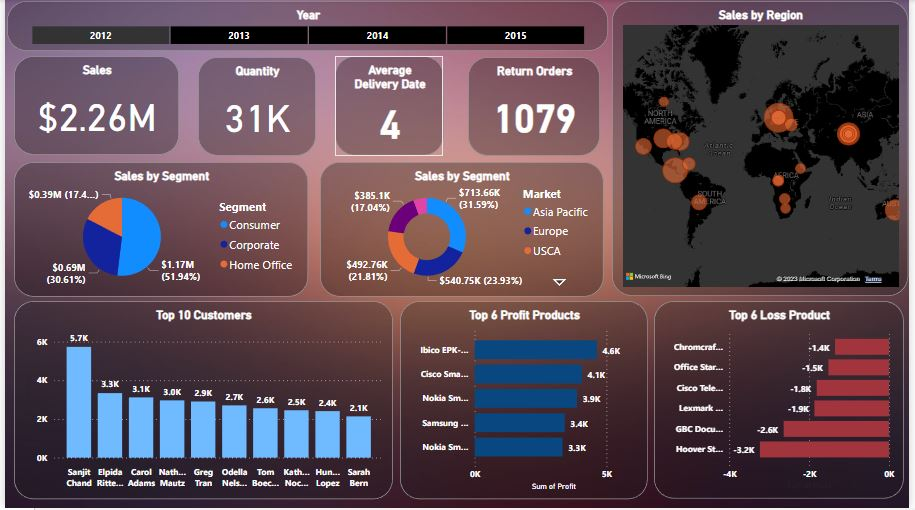

The page's visual inventory and layout, read from the dashboard file:
{"tool":"powerbi","page":{"name":"Page 1","canvas":[1280,720],"ordinal":0},"visuals":[{"type":"card","title":"Sales","fields":{"Values":["Sum(Orders.Sales)"]},"box":[12.3,80,233.8,140],"z":0},{"type":"card","title":"Quantity","fields":{"Values":["Sum(Orders.Quantity)"]},"box":[272.9,81.4,167.1,140],"z":1000},{"type":"card","title":"Average Delivery Date","fields":{"Values":["Avg(Orders.Delivery Date)"]},"box":[467.1,80,154.3,141.4],"z":2000},{"type":"slicer","title":"Year","fields":{"Values":["Orders.Year"]},"box":[3.1,1.5,852.3,70.8],"z":3000},{"type":"card","title":"Return Orders","fields":{"Values":["Sum(Returns.Return Orders)"]},"box":[655.7,81.4,187.1,140],"z":4000},{"type":"map","title":"Sales by Region","fields":{"Size":["Sum(Orders.Sales)"],"Category":["Orders.Region"]},"box":[860,1.5,420,418.5],"z":5000},{"type":"barChart","title":"Top 6 Profit Products","fields":{"Y":["Sum(Orders.Profit)"],"Category":["Orders.Product Name"]},"box":[560,427.1,351.4,281.4],"z":6000},{"type":"barChart","title":"Top 6 Loss Product ","fields":{"Y":["Sum(Orders.Profit)"],"Category":["Orders.Product Name"]},"box":[920,427.1,354.3,280],"z":7000},{"type":"pieChart","title":"Sales by Segment","fields":{"Category":["Orders.Segment"],"Y":["Sum(Orders.Sales)"]},"box":[12.3,229.2,416.9,190.8],"z":8000},{"type":"donutChart","title":"Sales by Segment","fields":{"Y":["Sum(Orders.Sales)"],"Category":["Orders.Market"]},"box":[446.2,229.2,401.5,190.8],"z":9000},{"type":"clusteredColumnChart","title":"Top 10 Customers","fields":{"Category":["Orders.Customer Name"],"Y":["Sum(Orders.Profit)"]},"box":[12.2,426.7,536.7,281.1],"z":10000}]}

Visuals, with their boxes in screenshot pixels (x1, y1, x2, y2), scaled from the page's 1280x720 canvas onto the 915x510 screenshot:
"Sales" card: 9,57,176,156
"Quantity" card: 195,58,315,157
"Average Delivery Date" card: 334,57,444,157
"Year" slicer: 2,1,611,51
"Return Orders" card: 469,58,602,157
"Sales by Region" map: 615,1,914,298
"Top 6 Profit Products" barChart: 400,303,652,502
"Top 6 Loss Product " barChart: 658,303,911,501
"Sales by Segment" pieChart: 9,162,307,298
"Sales by Segment" donutChart: 319,162,606,298
"Top 10 Customers" clusteredColumnChart: 9,302,392,501
